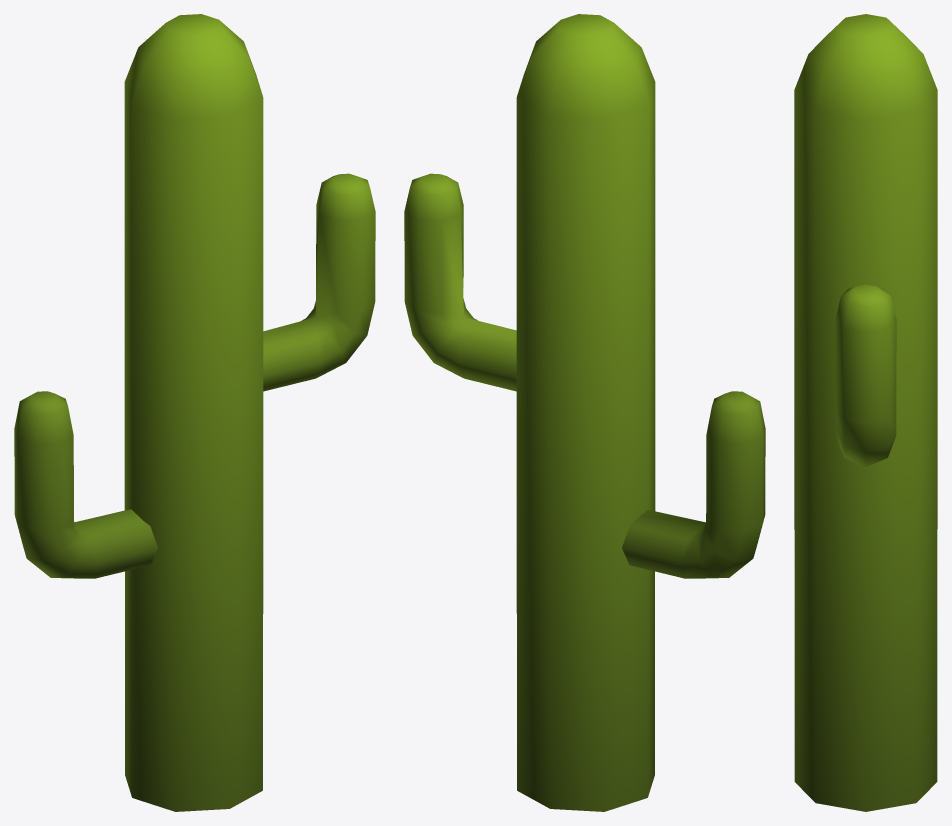
File: Cactus2.fbx
The picture shows the model from 3 angles, left to right: view 1: azimuth 30°, elevation 25°; view 2: azimuth 150°, elevation 25°; view 3: azimuth 270°, elevation 25°; orthographic projection.
Visible parts, largest first — view 1: Circle.001; view 2: Circle.001; view 3: Circle.001.
Part boxes in pixels (<box>): Circle.001: <box>14,14,375,811</box>; Circle.001: <box>404,14,765,811</box>; Circle.001: <box>794,14,937,811</box>.
Bounding box in the file's own units: 138 × 281 × 48.37.
